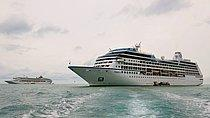Ship: (64, 43, 209, 95)
